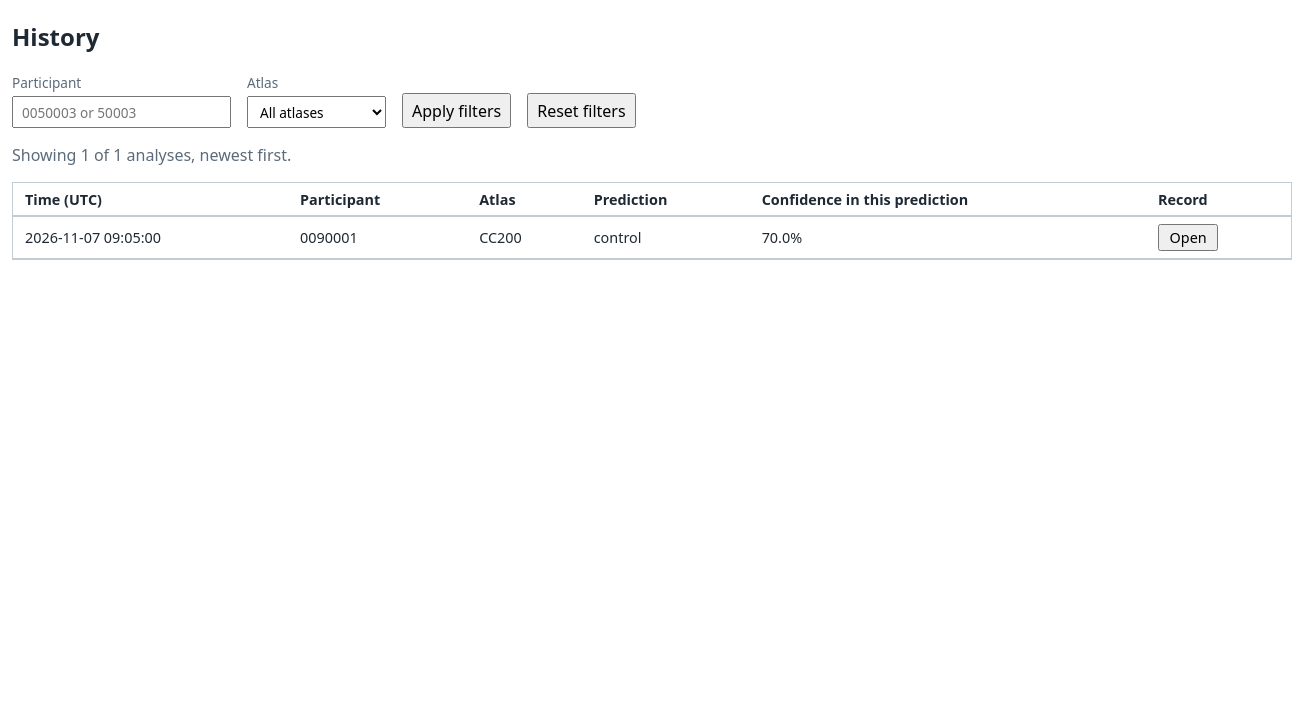
History page: export and regenerate › says the repeat is identical to the original
The image size is (1292, 720).
Click the button with aria-label "Open analysis a1b2c3d4e5f6": click(1188, 238) [1158,224,1218,251]
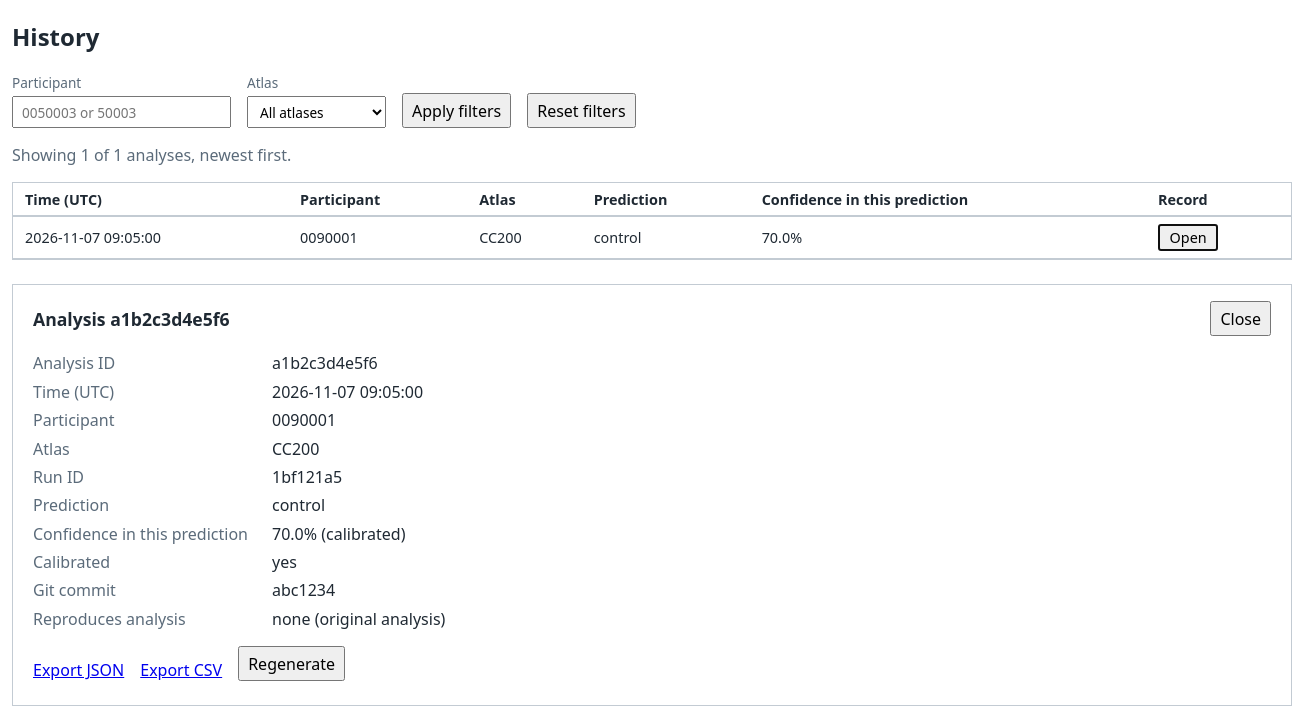
Check: the button "Regenerate" is shown
Click the button "Regenerate": click(292, 664) [238,646,345,682]
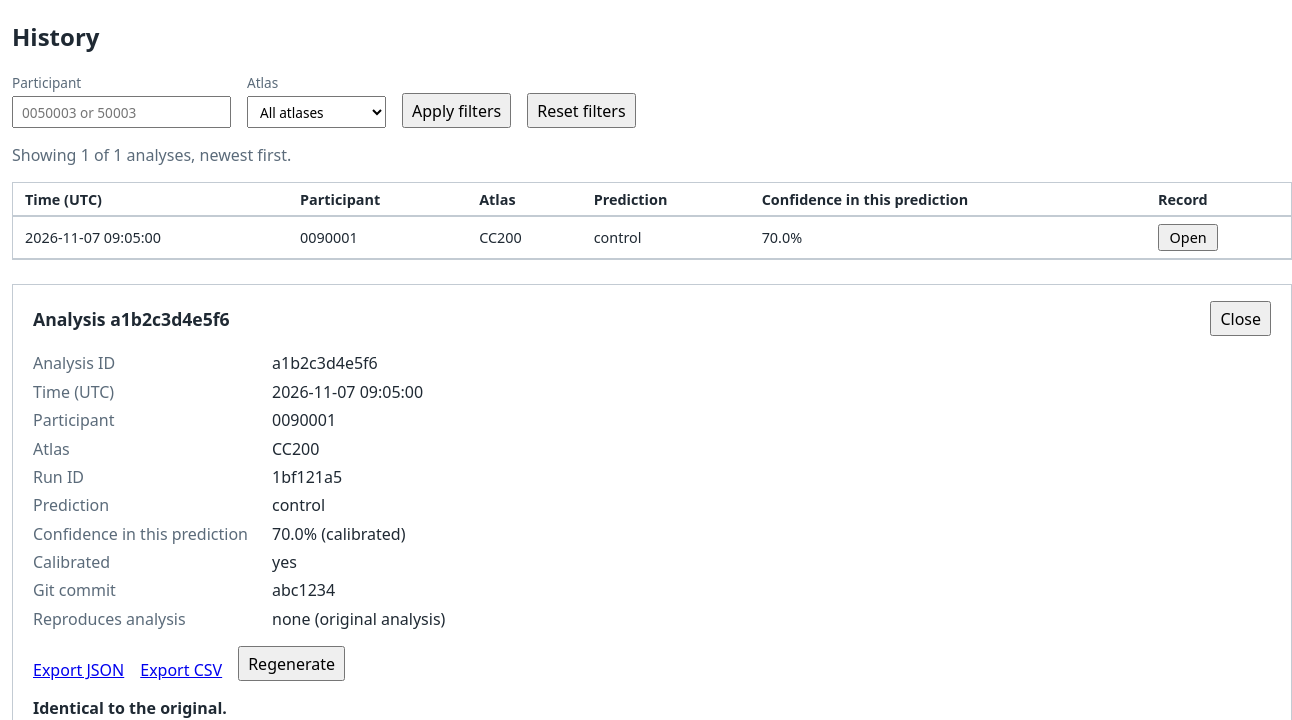
Check: the text "Identical to the original." is shown, box [33,698,227,719]
